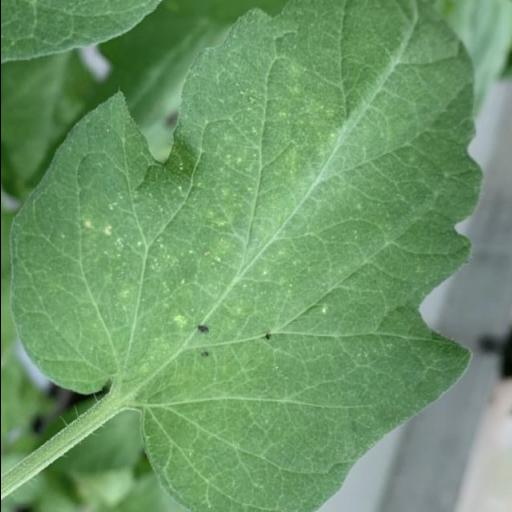Spider Mites: (0, 0, 485, 512)
